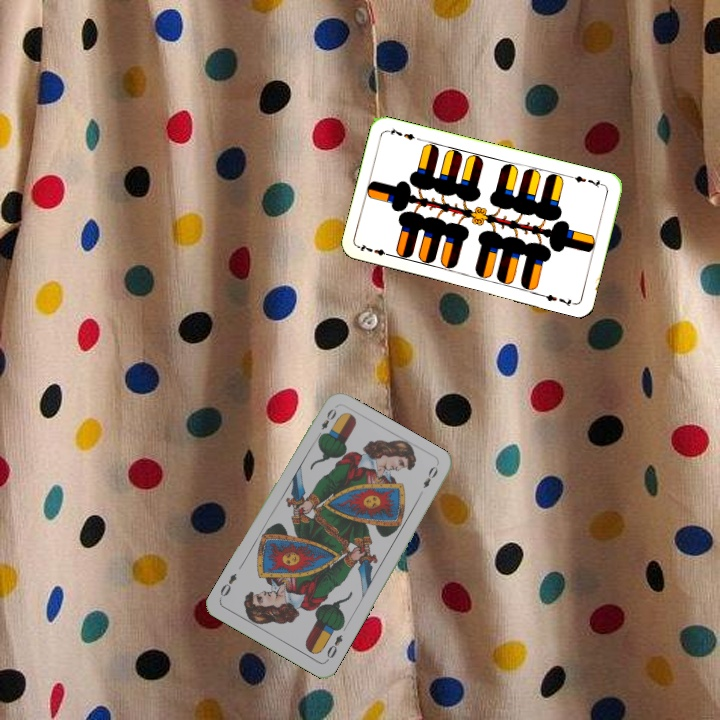E7: (567, 171, 607, 190), (355, 240, 395, 259)
EO: (312, 404, 339, 441), (322, 630, 345, 664)
